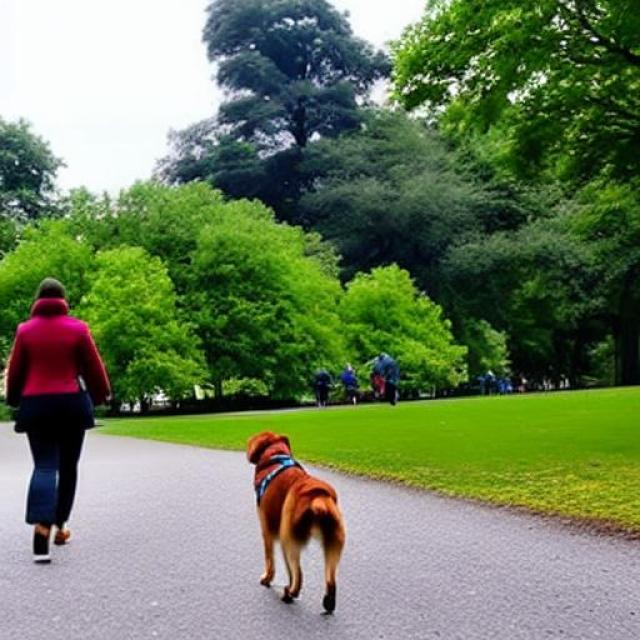Unleashed_Dog: (20, 394, 346, 614)
